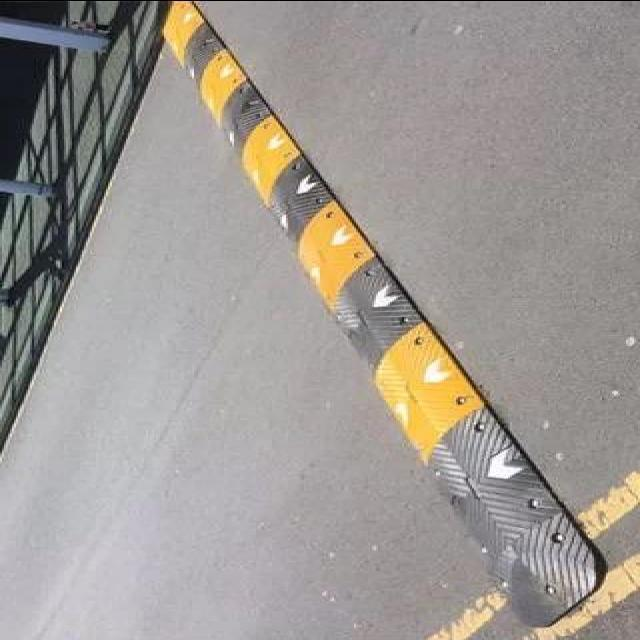speedbreaker: (142, 0, 622, 632)
